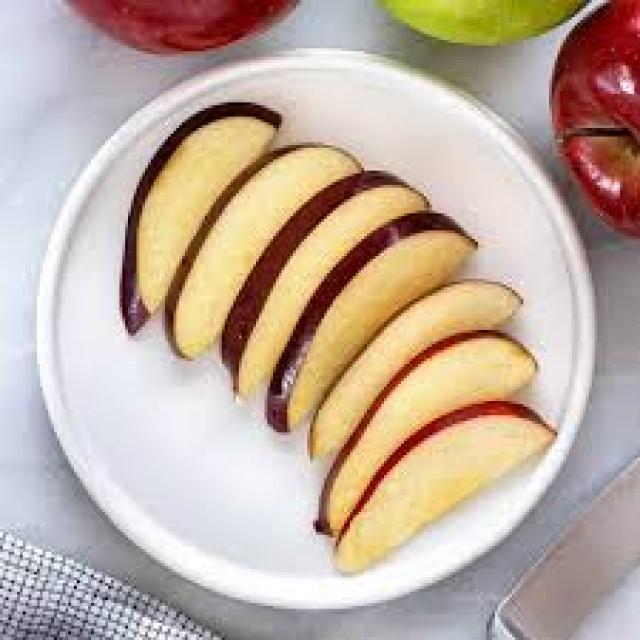Apple: (215, 170, 432, 404), (263, 208, 487, 434), (314, 332, 542, 535), (159, 134, 362, 361), (334, 400, 570, 578), (304, 279, 527, 463), (122, 97, 280, 338)
